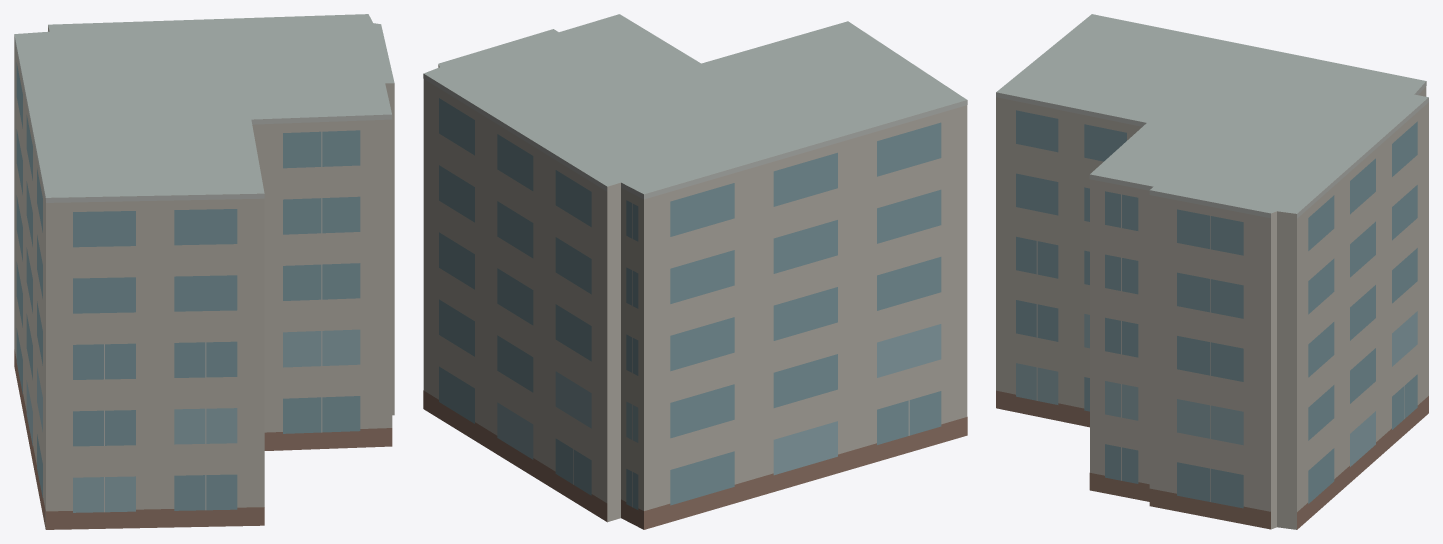
Rendered from survey-upis-32663387.glb.
The picture shows the model from 3 angles, left to right: view 1: azimuth 30°, elevation 25°; view 2: azimuth 150°, elevation 25°; view 3: azimuth 270°, elevation 25°; orthographic projection. The views are drawn at different scales.
Visible parts, largest first — view 1: survey-upis-32663387.tmp; view 2: survey-upis-32663387.tmp; view 3: survey-upis-32663387.tmp.
Boxes of the visible parts, x1,y1,x2,y2 form: survey-upis-32663387.tmp: (14,14,394,529); survey-upis-32663387.tmp: (423,14,967,529); survey-upis-32663387.tmp: (996,14,1428,529).
Size of the model in its own units: 21.66 by 15.96 by 19.82.
